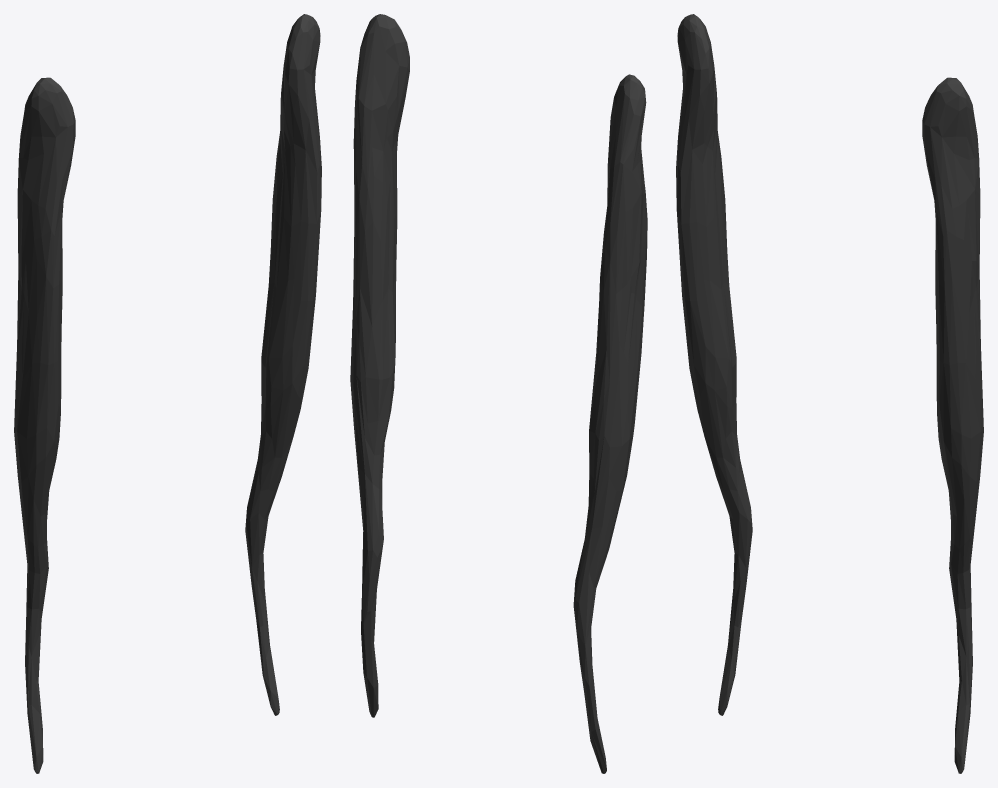
File: m_flexor_carpi_radialis.glb
The picture shows the model from 3 angles, left to right: view 1: azimuth 30°, elevation 25°; view 2: azimuth 150°, elevation 25°; view 3: azimuth 330°, elevation 25°; orthographic projection. The views are drawn at different scales.
Visible parts, largest first — view 1: m_flexor_carpi_radialis; view 2: m_flexor_carpi_radialis; view 3: m_flexor_carpi_radialis.
Boxes of the visible parts, x1,y1,x2,y2 form: m_flexor_carpi_radialis: [14, 14, 321, 773]; m_flexor_carpi_radialis: [350, 14, 647, 773]; m_flexor_carpi_radialis: [676, 14, 983, 773].
Bounding box in the file's own units: 0.00348 × 0.00809 × 0.000918.
Materials: 1 (1 with a texture image).
